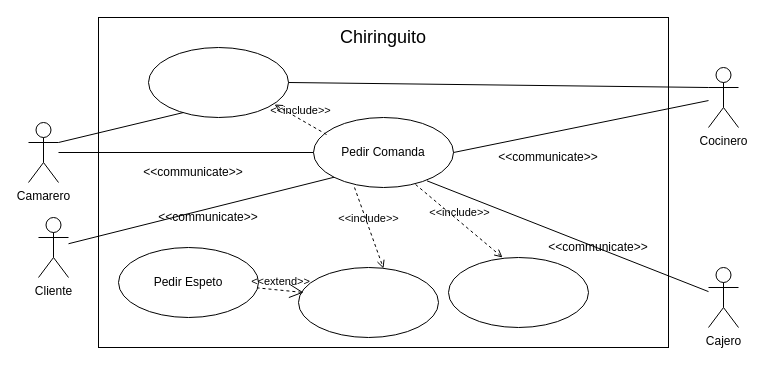
Image size: 765x366. Some labels were removed from this diagram. Here are the shapes that lost their labels. From the top down, the centre of each, then its label:
At point (218, 82): "Atender Mesa".
At point (368, 302): "Pedir Comida".
At point (518, 292): "Pedir Bebida".
